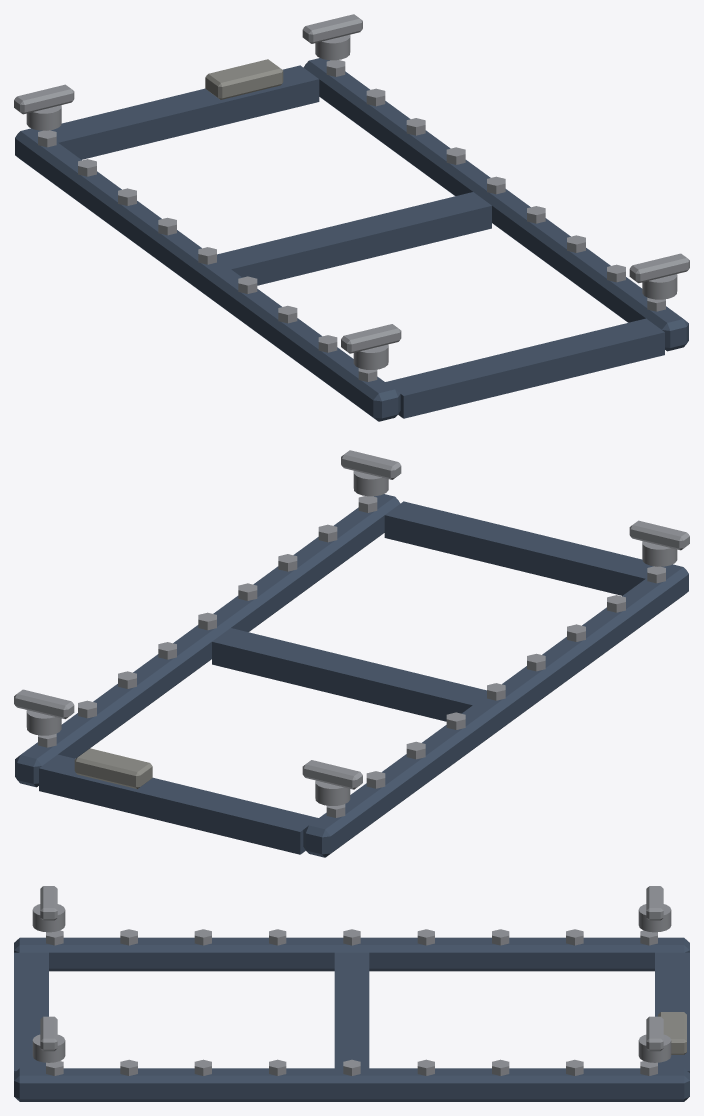
The model's file is mp8_rail_mount.obj.
The picture shows the model from 3 angles, top to bottom: view 1: azimuth 30°, elevation 25°; view 2: azimuth 150°, elevation 25°; view 3: azimuth 270°, elevation 25°; orthographic projection. The views are drawn at different scales.
Visible parts, largest first — view 1: mp8_rail_mount; view 2: mp8_rail_mount; view 3: mp8_rail_mount.
Boxes of the visible parts, left/top/right/bottom form: mp8_rail_mount: left=14, top=14, right=689, bottom=421; mp8_rail_mount: left=14, top=450, right=689, bottom=857; mp8_rail_mount: left=14, top=886, right=689, bottom=1101.
Size of the model in its own units: 0.63 by 0.134 by 1.16.
